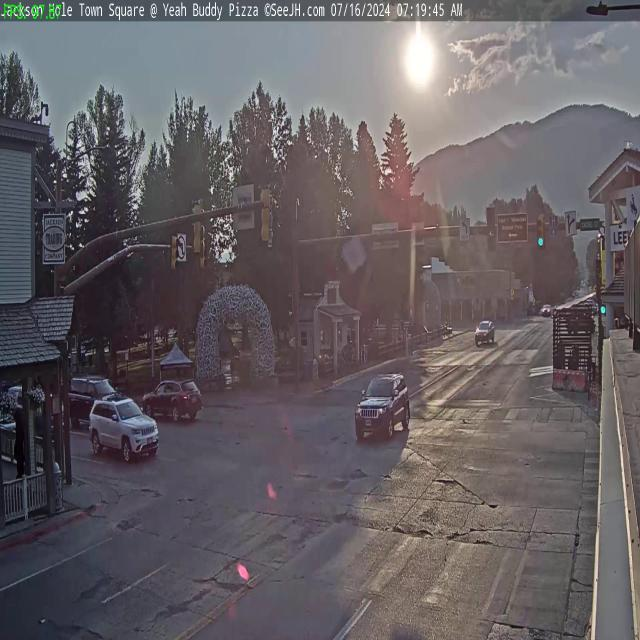suv: (89, 397, 160, 464), (354, 371, 411, 444), (140, 382, 204, 422), (474, 318, 494, 346)
traffic light: (260, 184, 273, 245), (190, 200, 204, 255), (487, 207, 496, 252), (171, 233, 179, 272), (537, 214, 546, 248)
